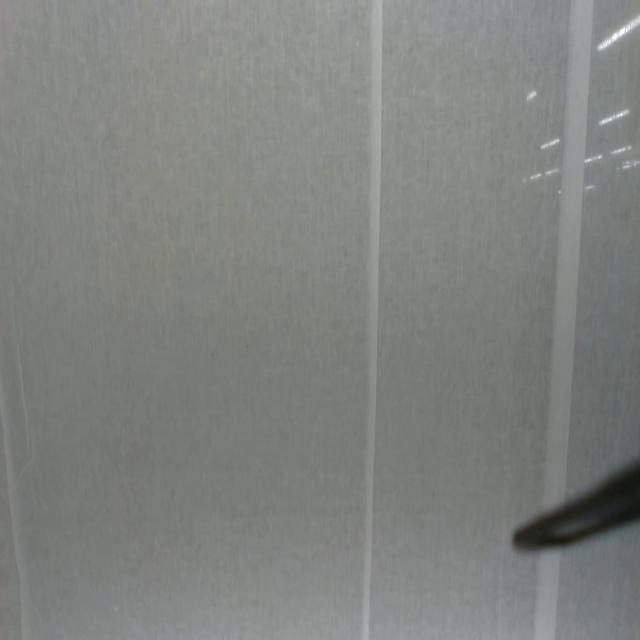crease: (544, 0, 596, 484), (362, 0, 386, 639), (0, 389, 30, 636), (530, 557, 564, 639)
